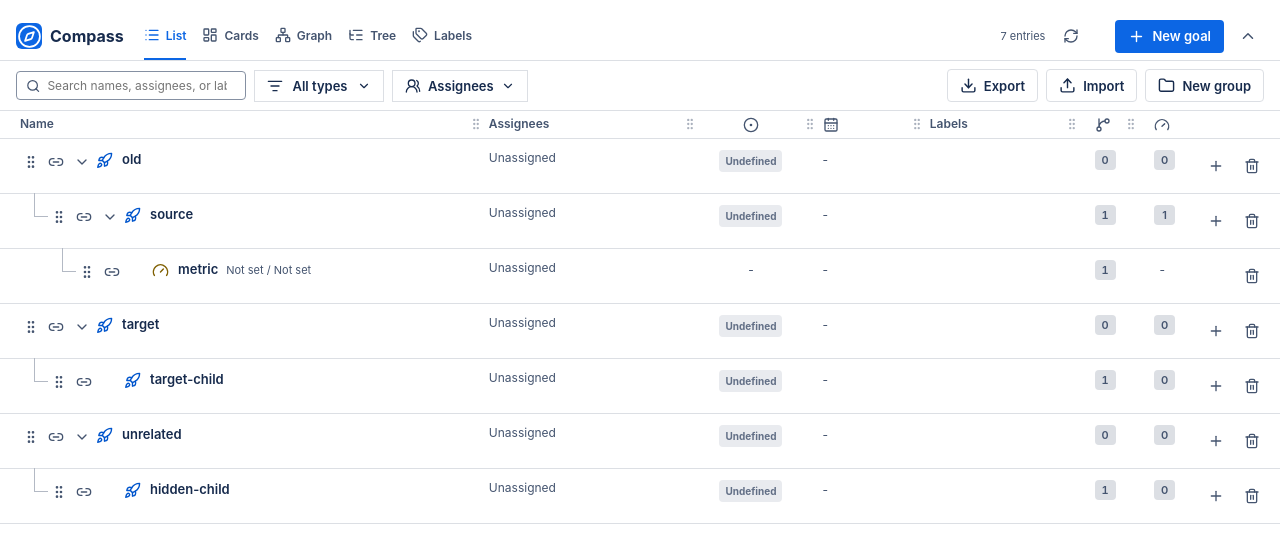
it: given a drag from .drag-handle to .drop-inside, its save uses the correct link or move operation
This screenshot has width=1280, height=541.
Click the button named "Collapse source": (110, 217) [98,205,122,229]
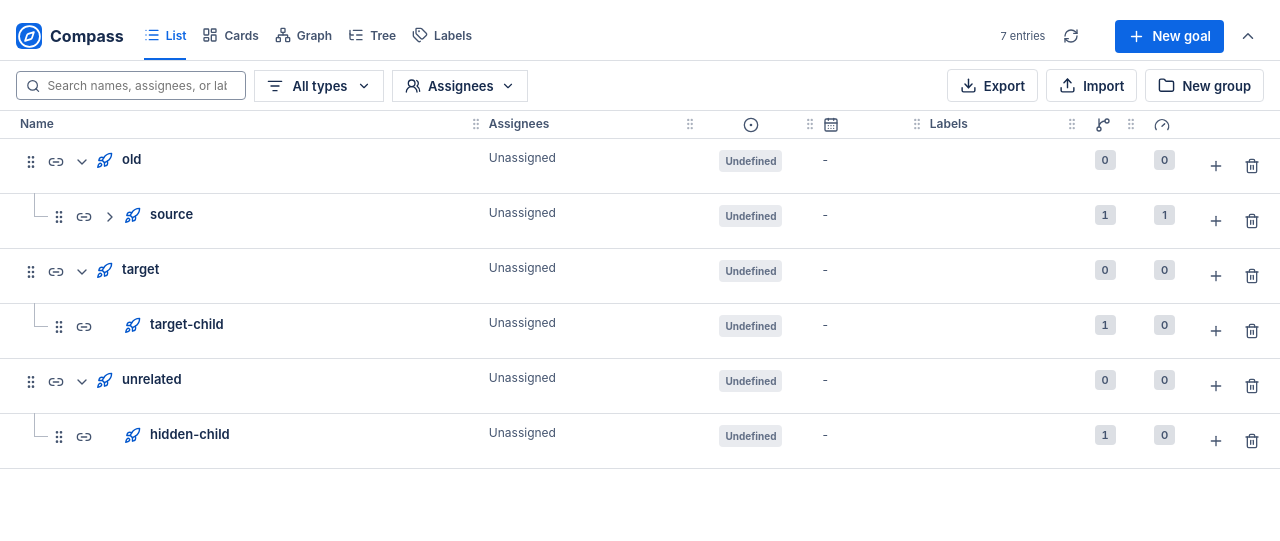
Click the button named "Collapse target": (82, 272) [70,260,94,284]
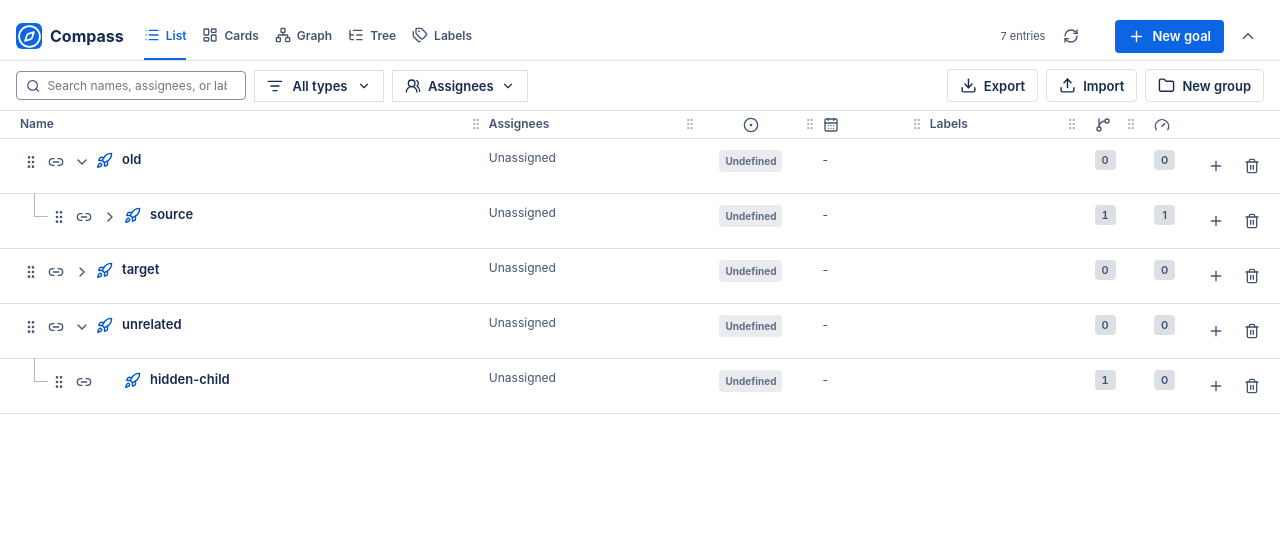
Click the button named "Collapse unrelated": (82, 327) [70,315,94,339]
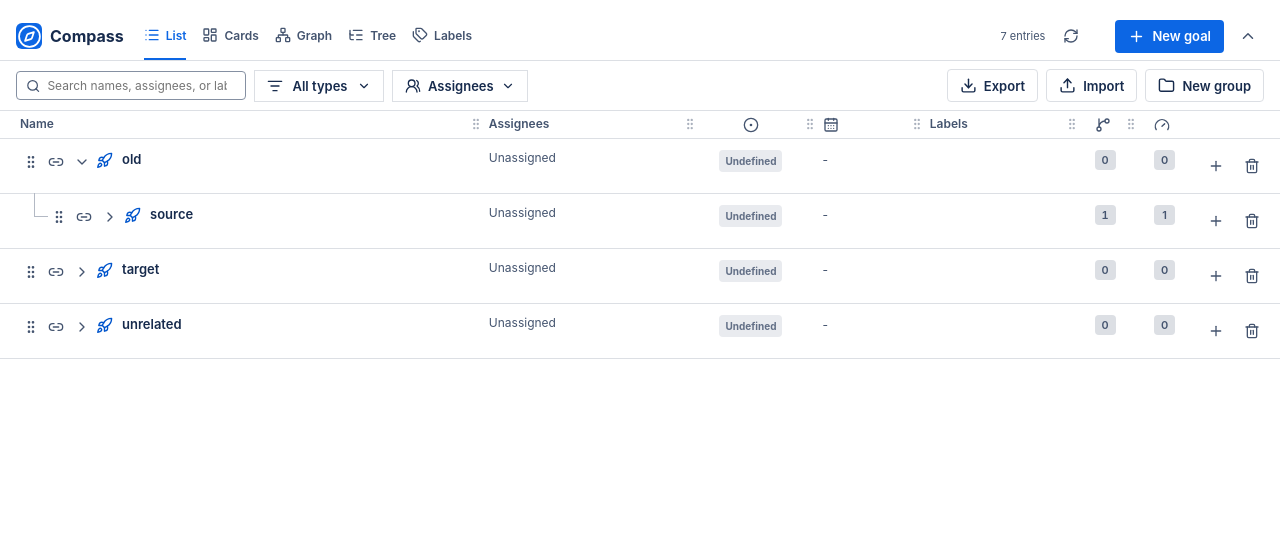
Press the mouse on the button named "Move source": (59, 217) [48,205,70,229]
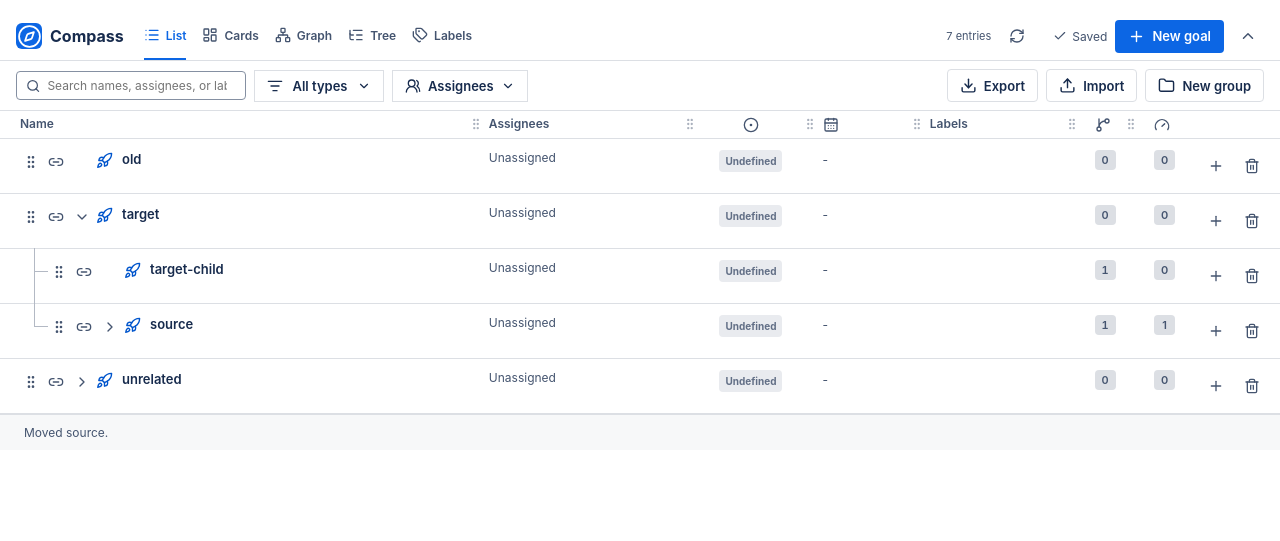
Expected: the button named "Collapse unrelated" is shown, [70,370,94,394]
Expected: the row "target-child Unassigned Undefined - 1 0" is shown, [0,248,1279,303]
